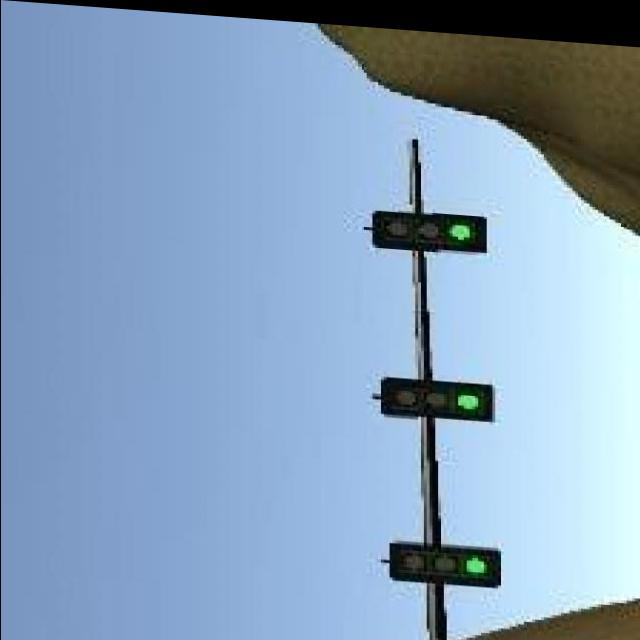green light: (386, 531, 503, 584), (368, 201, 482, 251), (375, 368, 492, 415)
